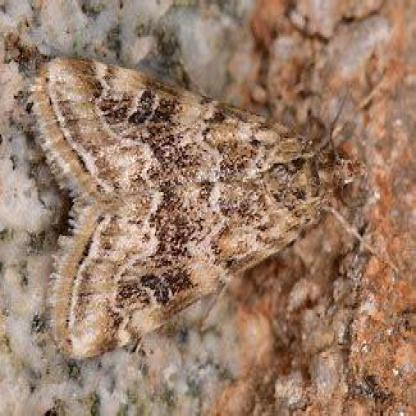Hellula undalis: (26, 49, 407, 370)
